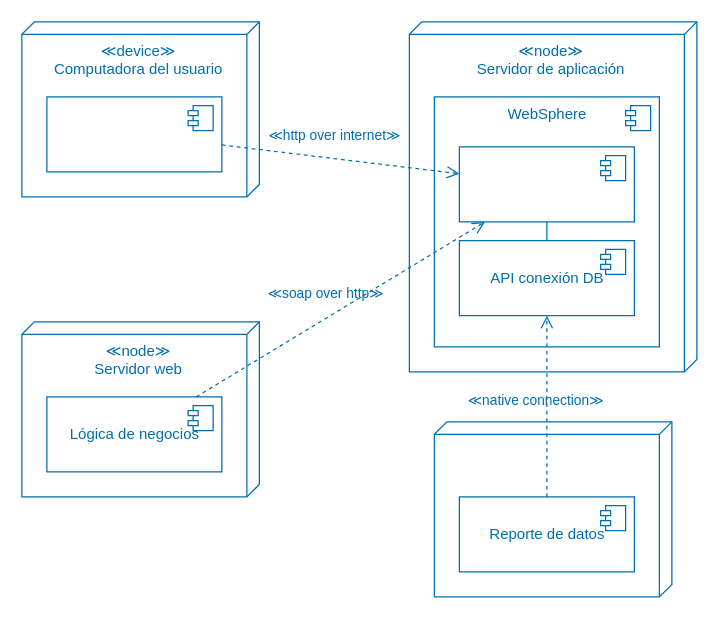
Image size: 719x619. Some labels were removed from this diagram. The box of each missing label's shape, as (x1, y1, x2, y2) in pixels:
Aplicación web: (458, 146, 634, 222)
Navegador web: (46, 96, 222, 172)
≪node≫ Servidor de base de datos: (433, 421, 672, 597)
